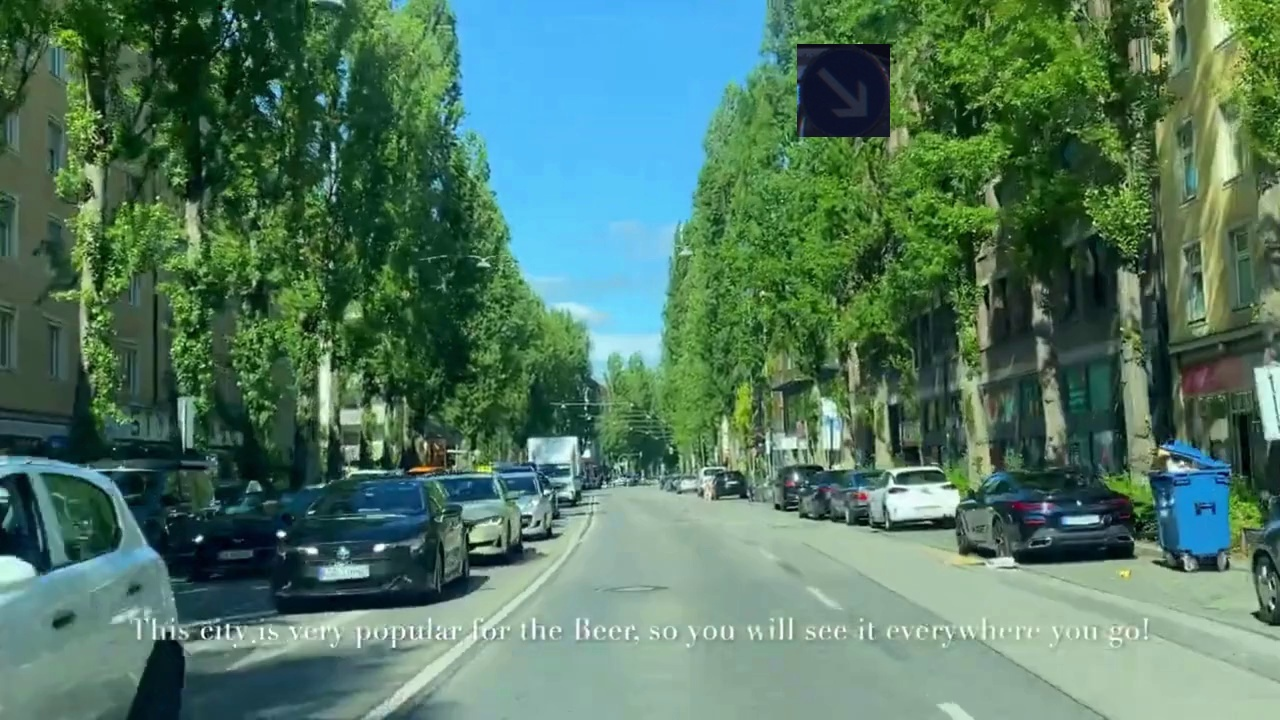Keep right: (797, 44, 890, 137)
